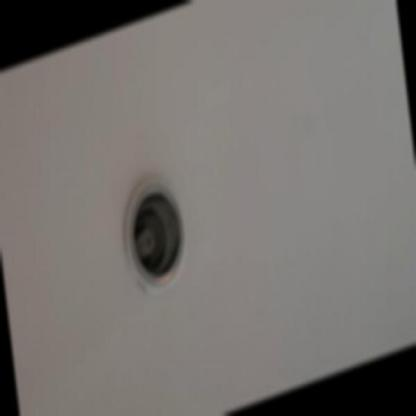light_off: (109, 145, 199, 313)
